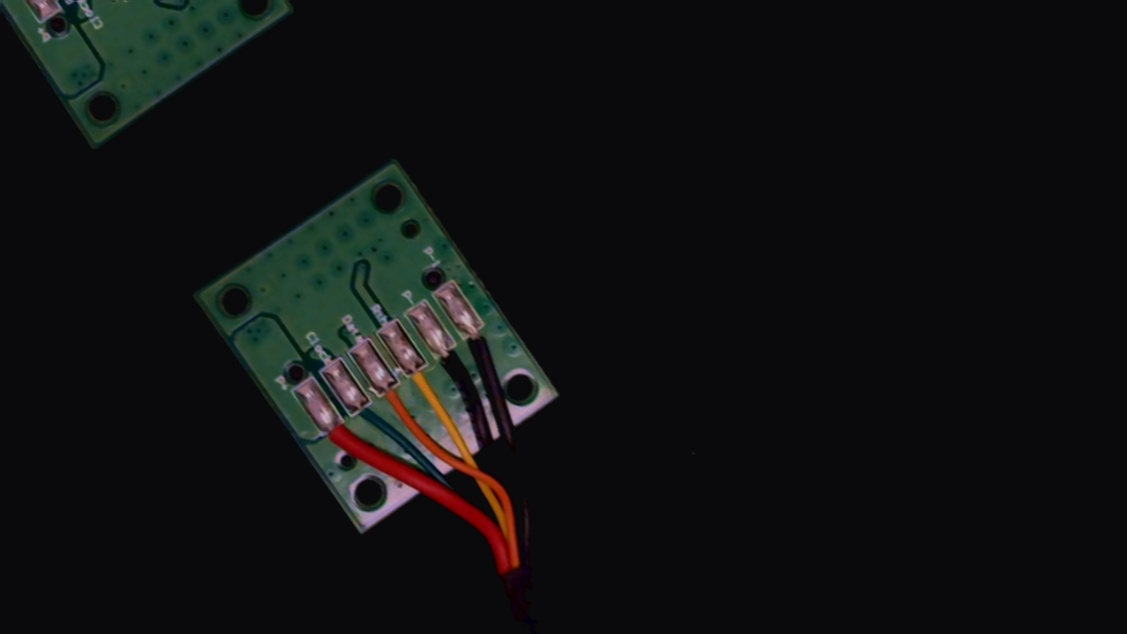Black: (421, 329, 485, 402)
Black1: (452, 310, 505, 370)
Green: (340, 386, 397, 449)
Orange: (367, 370, 421, 430)
Red: (313, 407, 367, 468)
Yellow: (395, 350, 450, 411)
